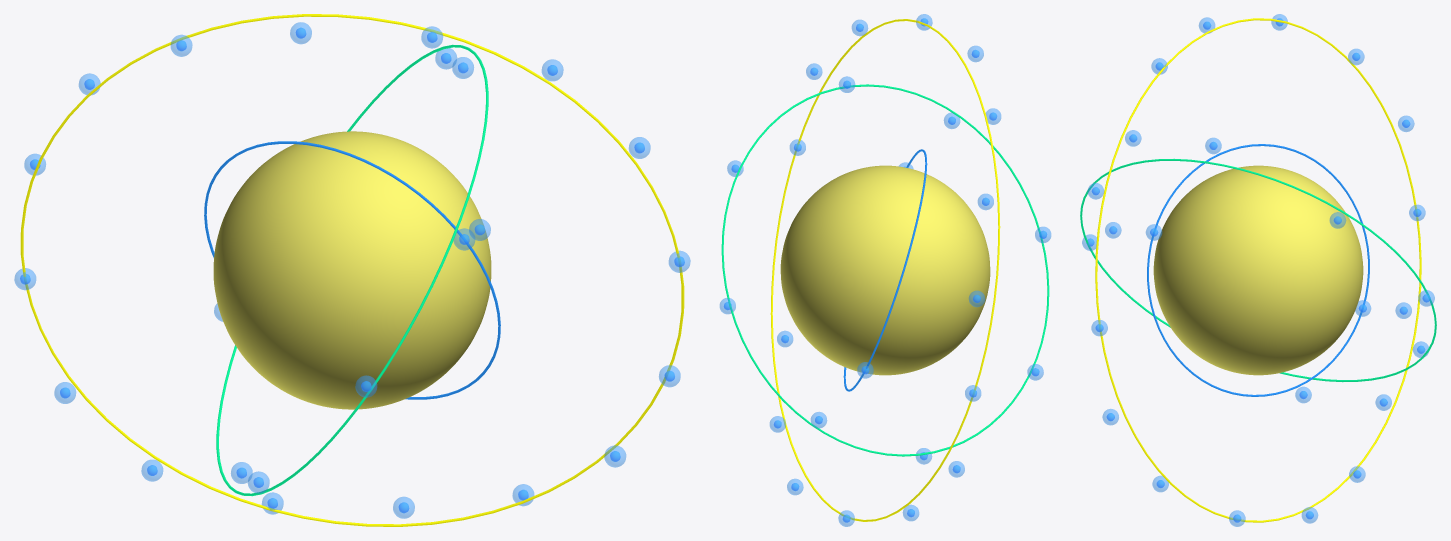
3 renders of one model, left to right at view 1: azimuth 30°, elevation 25°; view 2: azimuth 150°, elevation 25°; view 3: azimuth 270°, elevation 25°, orthographic. The views are drawn at different scales.
Parts seen in each view (by area): view 1: Fe, object 24, object 7, object 2; view 2: Fe, object 24, object 7, object 2; view 3: Fe, object 24, object 7, object 2.
Boxes of the visible parts, <box> form: Fe: <box>213,131,491,409</box>; object 24: <box>20,14,684,526</box>; object 7: <box>216,44,488,496</box>; object 2: <box>204,141,500,399</box>; Fe: <box>780,165,990,375</box>; object 24: <box>770,19,1000,521</box>; object 7: <box>721,84,1049,456</box>; object 2: <box>843,149,927,391</box>; Fe: <box>1153,165,1363,375</box>; object 24: <box>1095,18,1421,522</box>; object 7: <box>1080,158,1436,382</box>; object 2: <box>1147,144,1369,396</box>.
Size of the model in its own units: 3.9 by 4.66 by 3.41.
